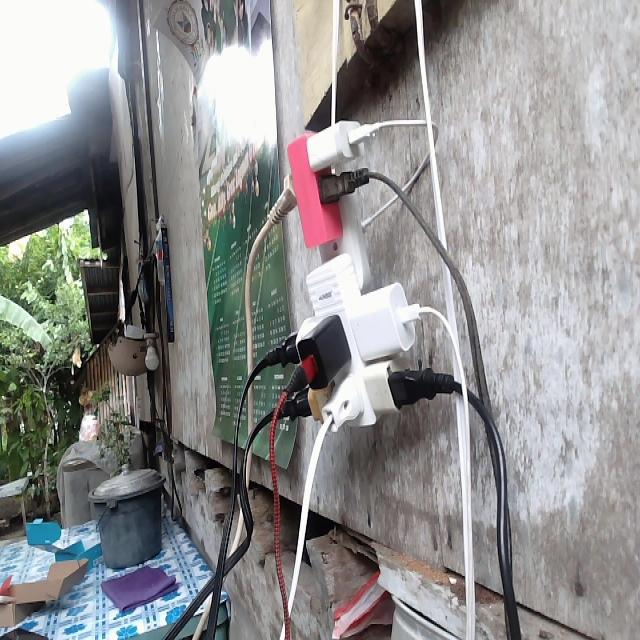-: (265, 119, 456, 433)
